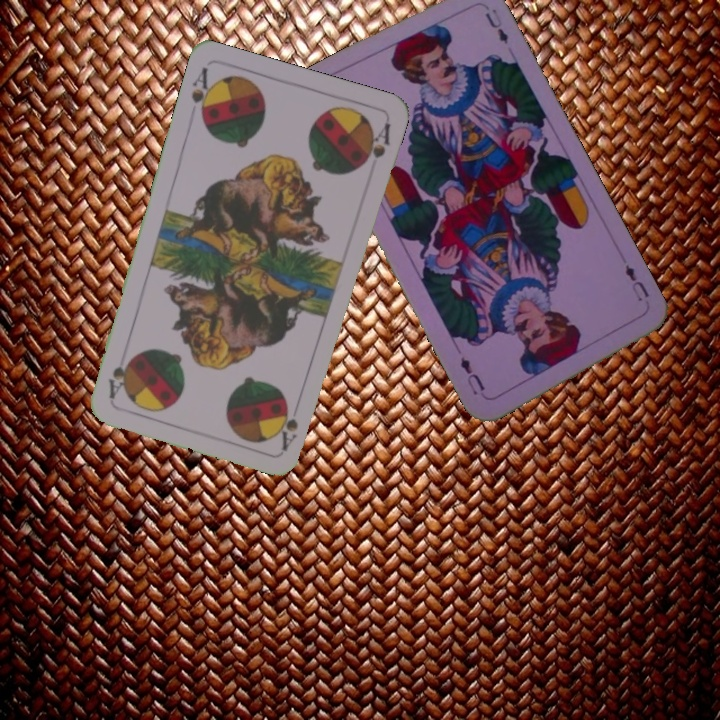EU: (620, 260, 652, 304)
SA: (187, 64, 217, 125), (278, 414, 301, 452)
